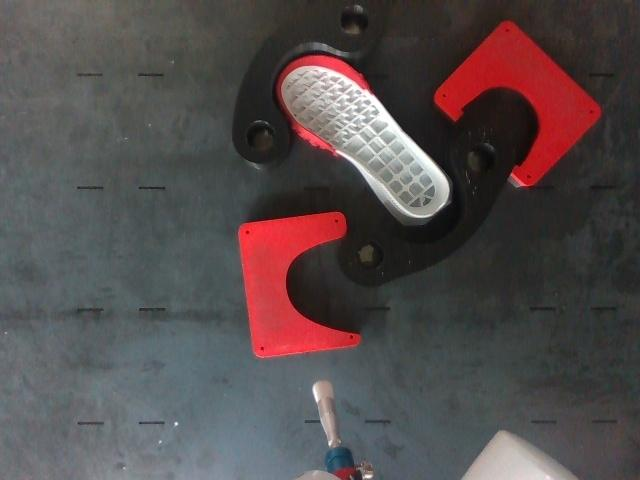shoes: (277, 56, 451, 218)
